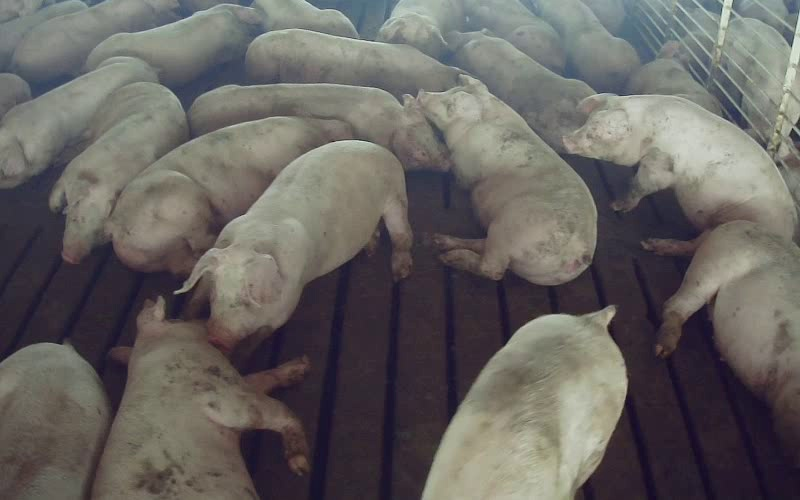pig: (92, 297, 309, 499), (422, 306, 625, 499), (106, 117, 351, 274), (418, 75, 596, 284), (657, 223, 799, 465), (49, 82, 188, 263), (189, 84, 449, 170), (0, 57, 157, 187), (447, 31, 594, 151), (245, 29, 459, 98), (86, 4, 261, 86), (625, 41, 721, 115)
